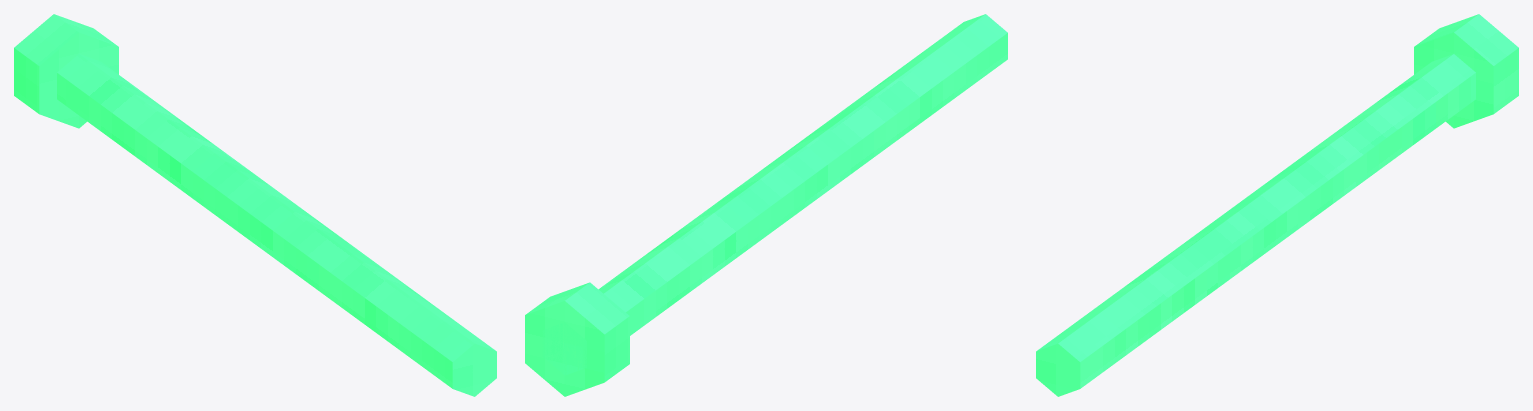
Rendered from fx_heal.glb.
3 views of the same model, side by side, from view 1: azimuth 30°, elevation 25°; view 2: azimuth 150°, elevation 25°; view 3: azimuth 330°, elevation 25° (orthographic).
Parts seen in each view (by area): view 1: fx_heal; view 2: fx_heal; view 3: fx_heal.
Part boxes in pixels (x1=…): fx_heal: x1=14, y1=14, x2=496, y2=396; fx_heal: x1=525, y1=14, x2=1007, y2=396; fx_heal: x1=1036, y1=14, x2=1518, y2=396.
Bounding box in the file's own units: 0.1091 × 0.126 × 1.
1 material, 1 textured.
